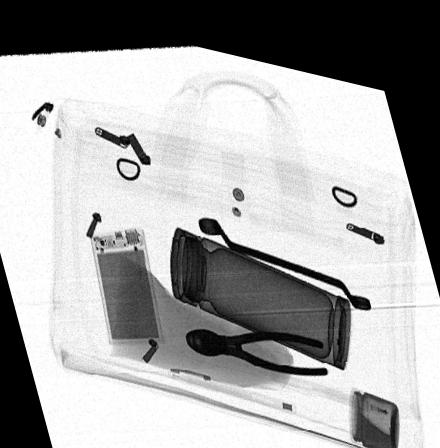Pliers: (184, 315, 328, 360)
Powerbank: (87, 220, 165, 338)
Wrench: (198, 208, 372, 292)
